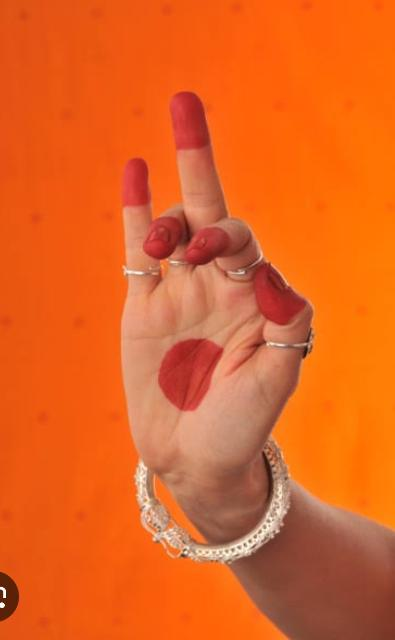shuktund: (122, 92, 313, 561)
